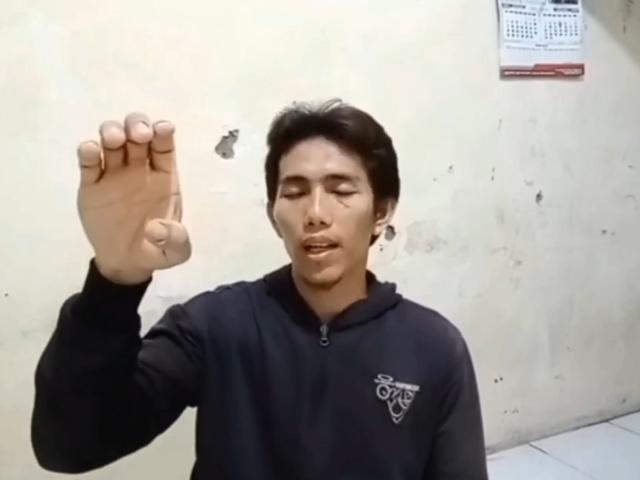E: (75, 110, 191, 274)
